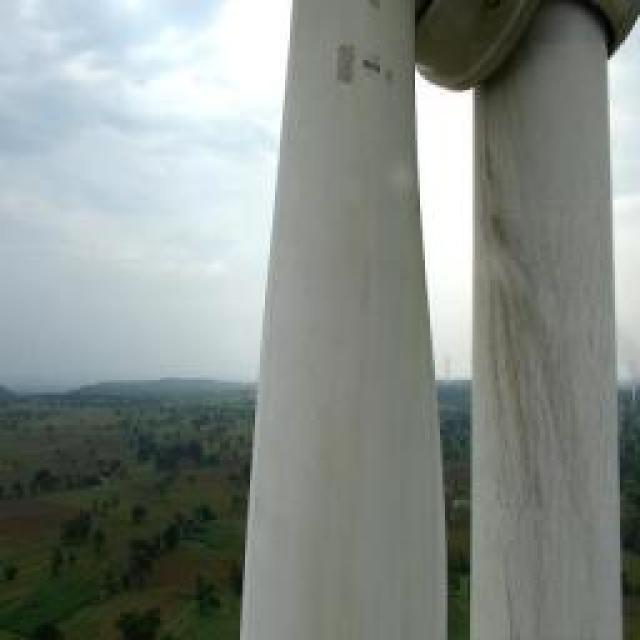Dirt: (470, 56, 611, 639)
